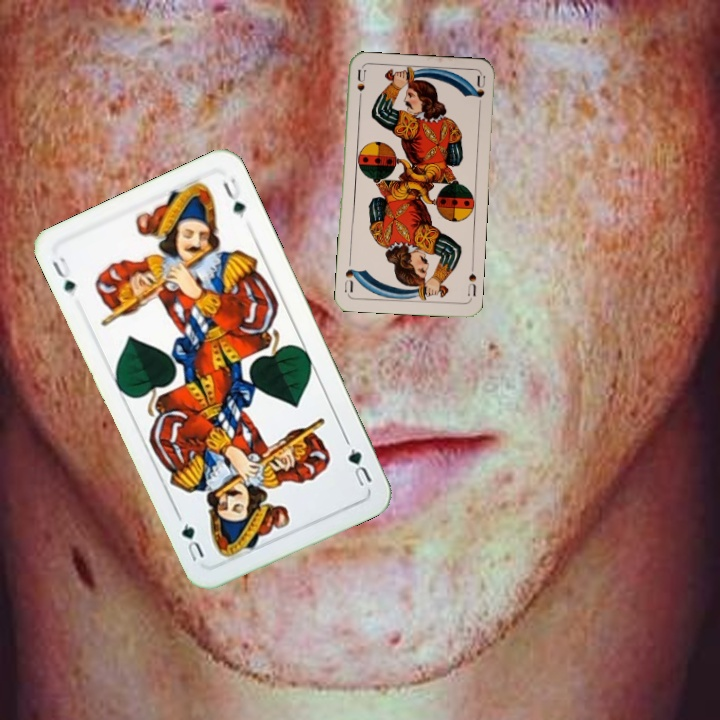GU: (48, 252, 79, 299), (344, 444, 375, 489)
SU: (353, 66, 368, 107), (464, 261, 479, 299)
